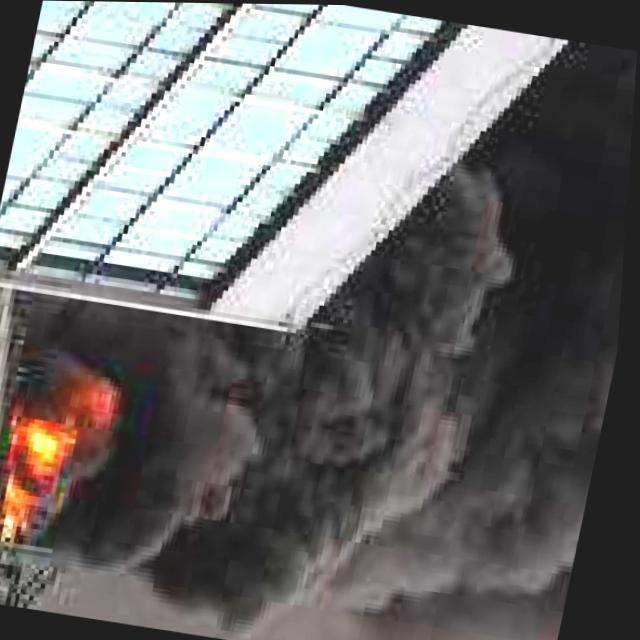smoke: (63, 1, 640, 640)
